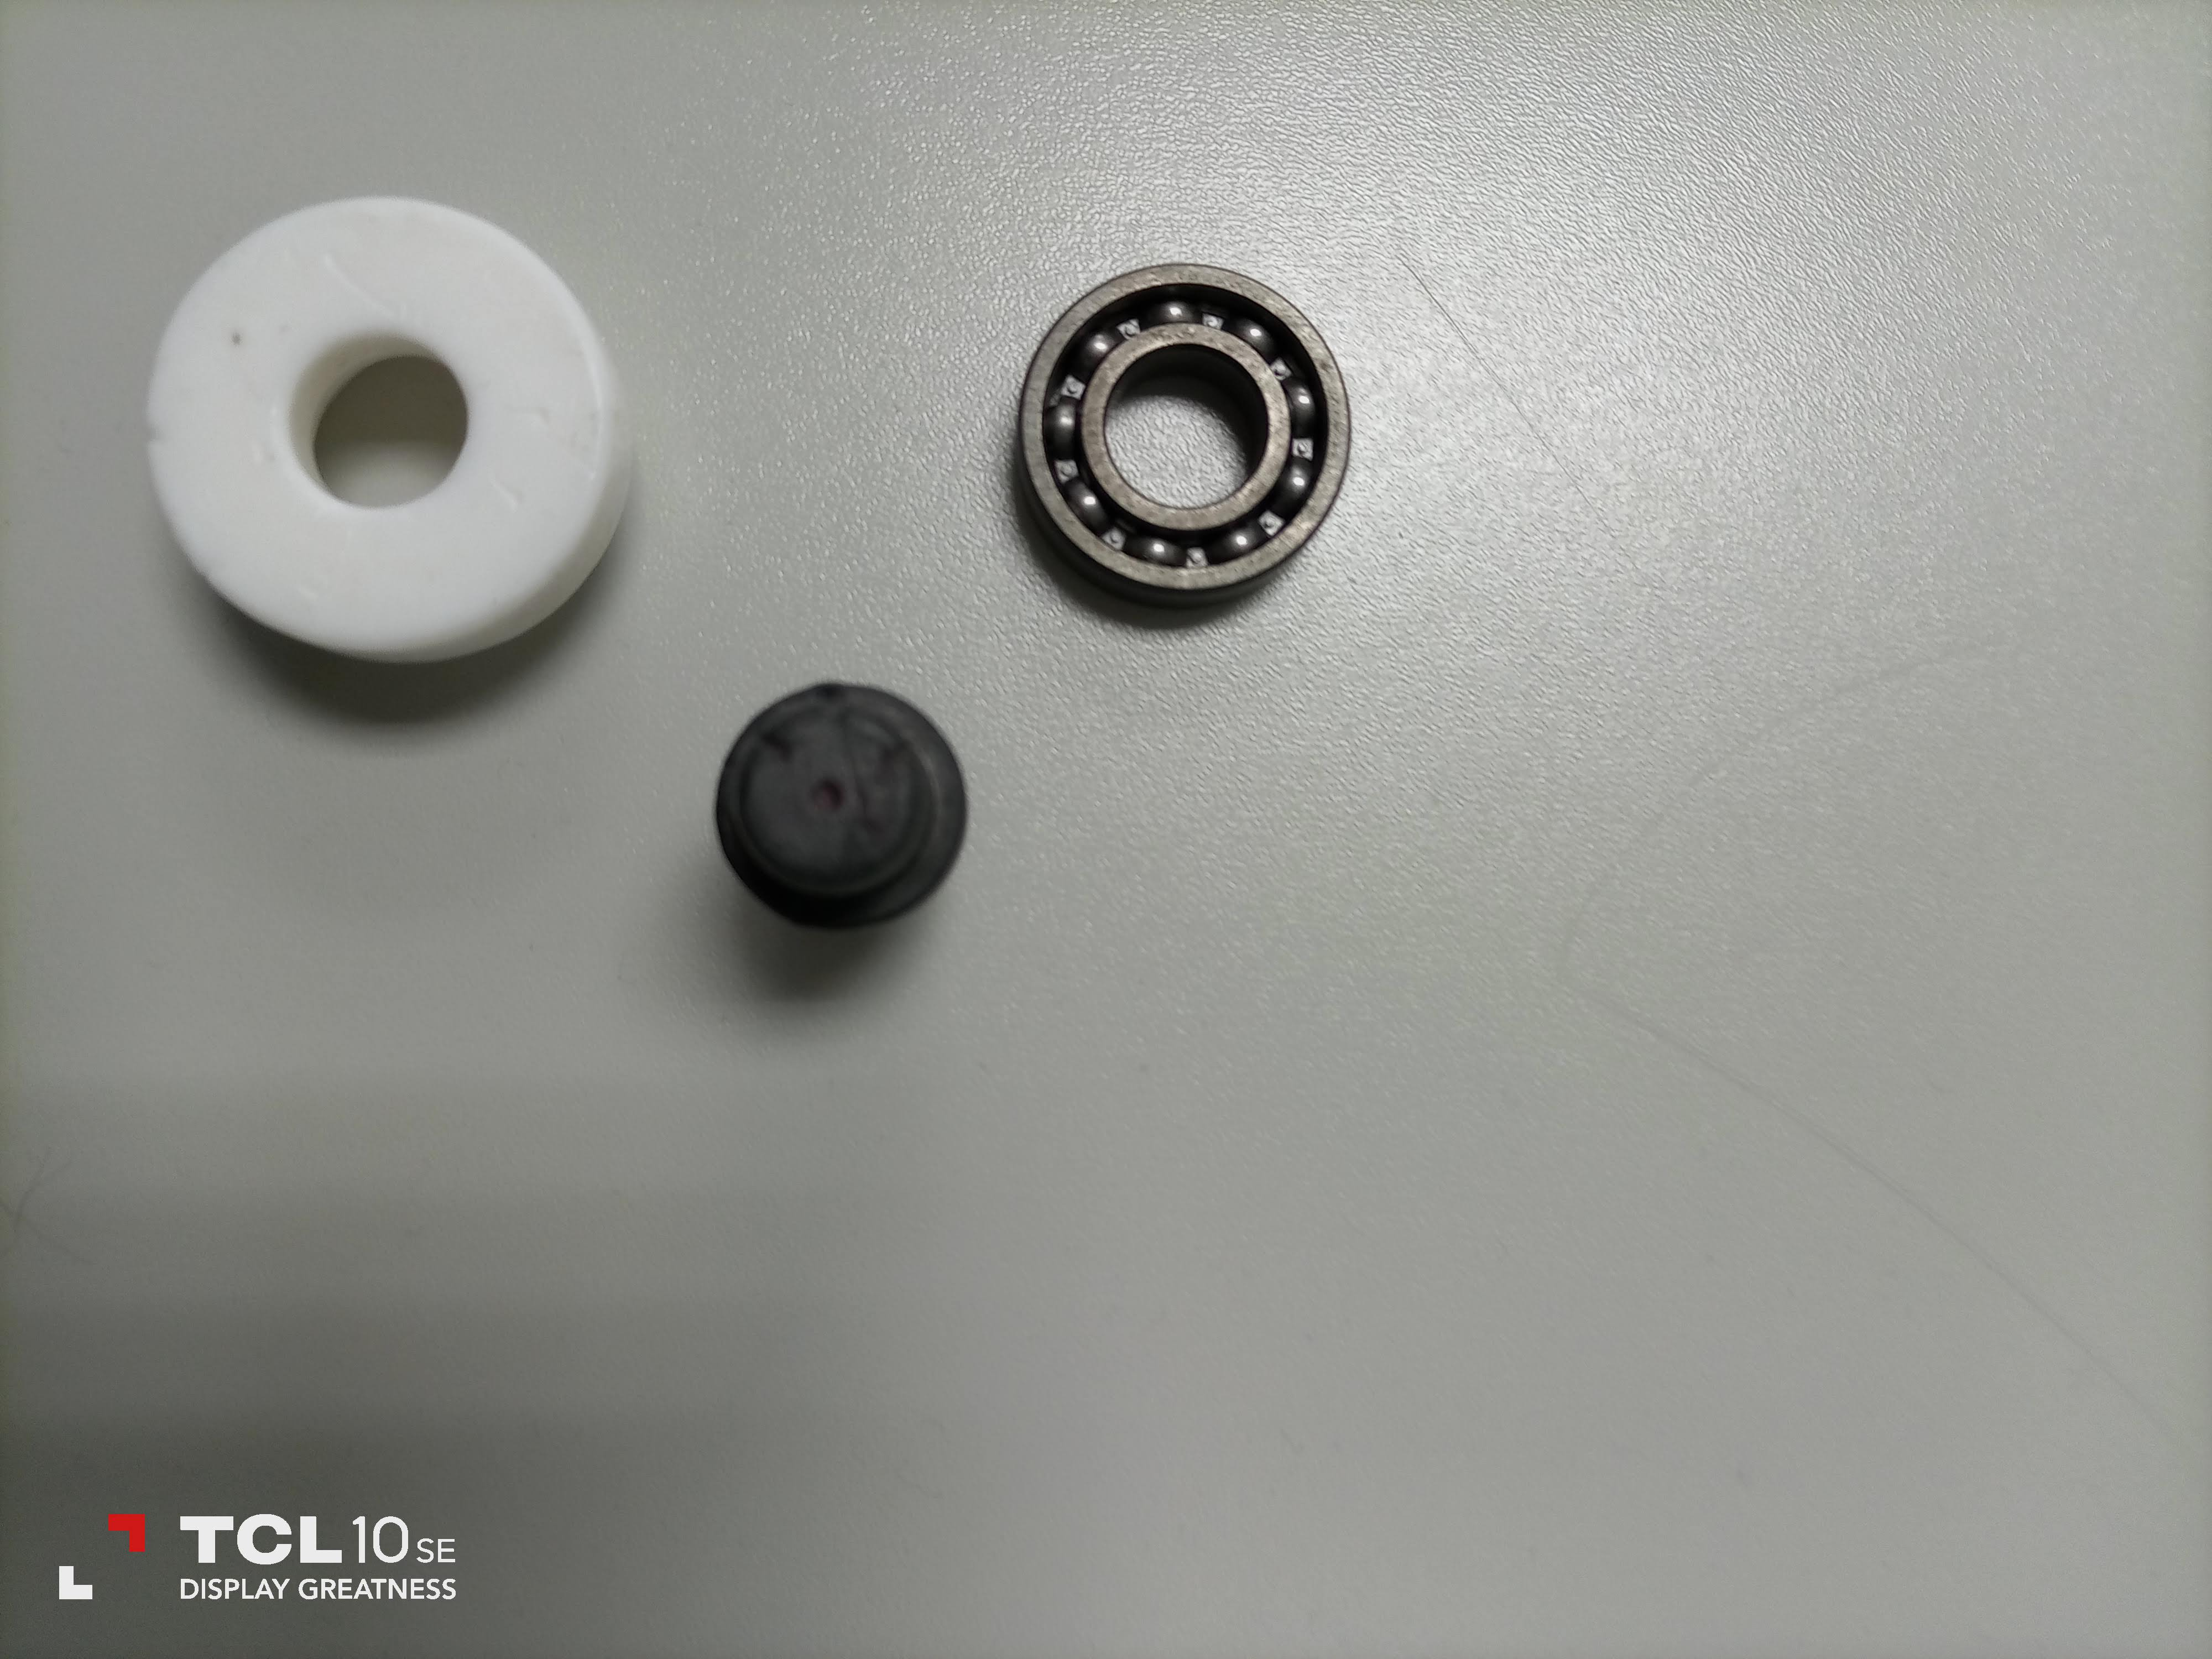Ardatza: (711, 694, 968, 927)
Roda: (1012, 260, 1352, 603)
Tapa: (141, 190, 631, 659)
